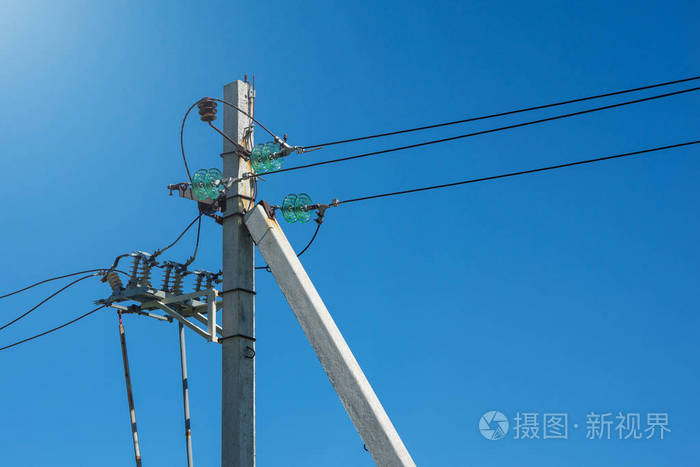insulator: (189, 166, 224, 202), (246, 143, 282, 175), (282, 190, 312, 225)
